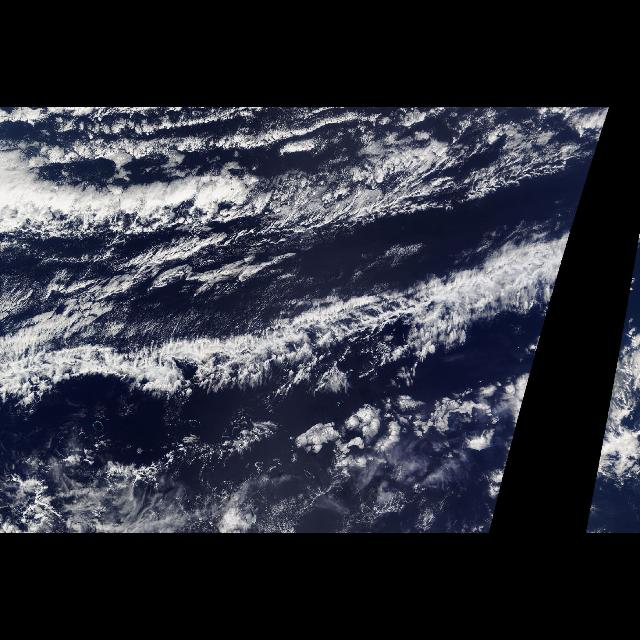Fish: (1, 111, 568, 399)
